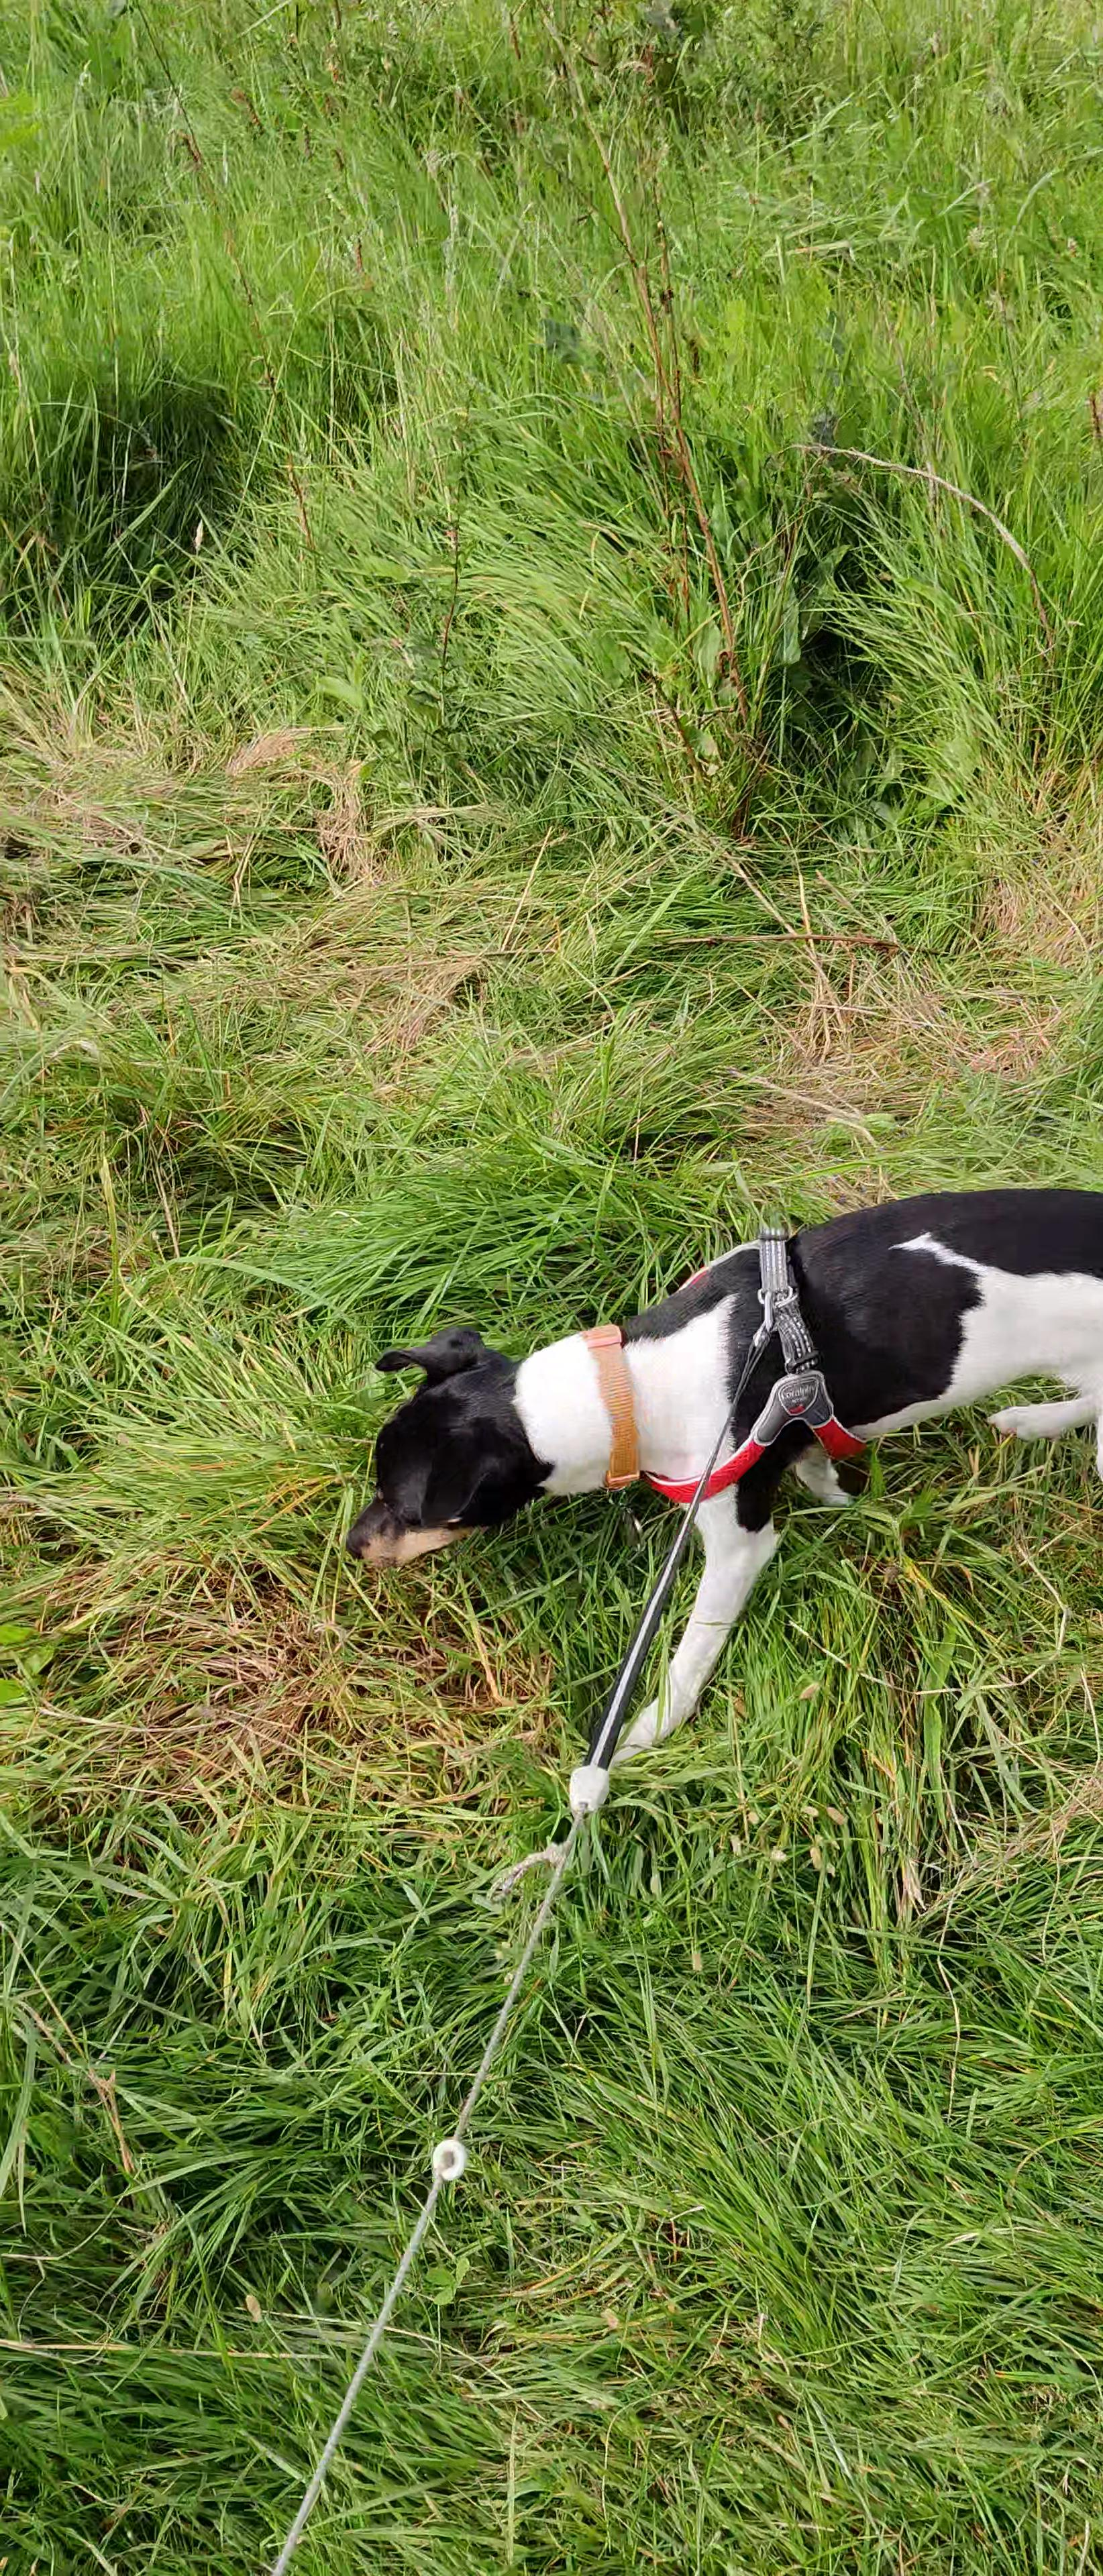Dog: (325, 1158, 1103, 1789)
